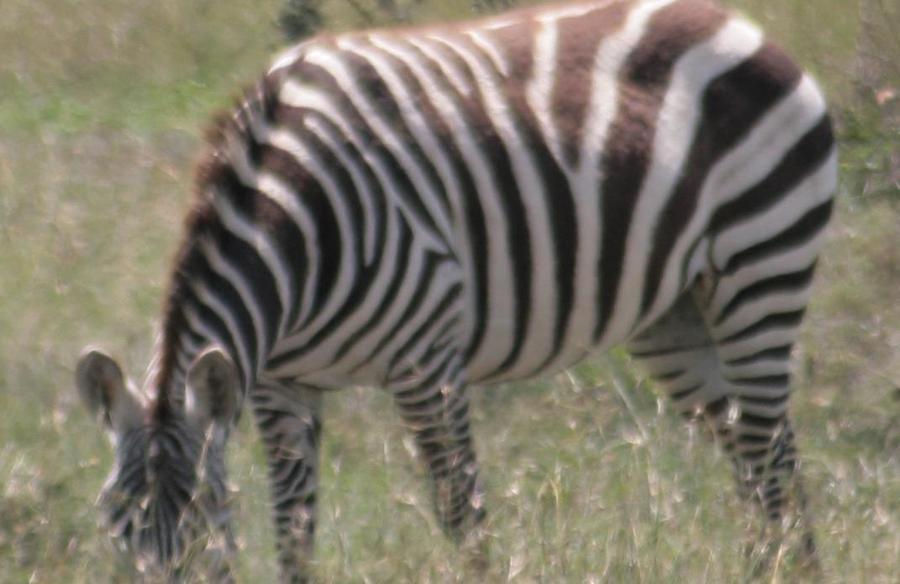zebra_plains: (225, 11, 877, 391)
